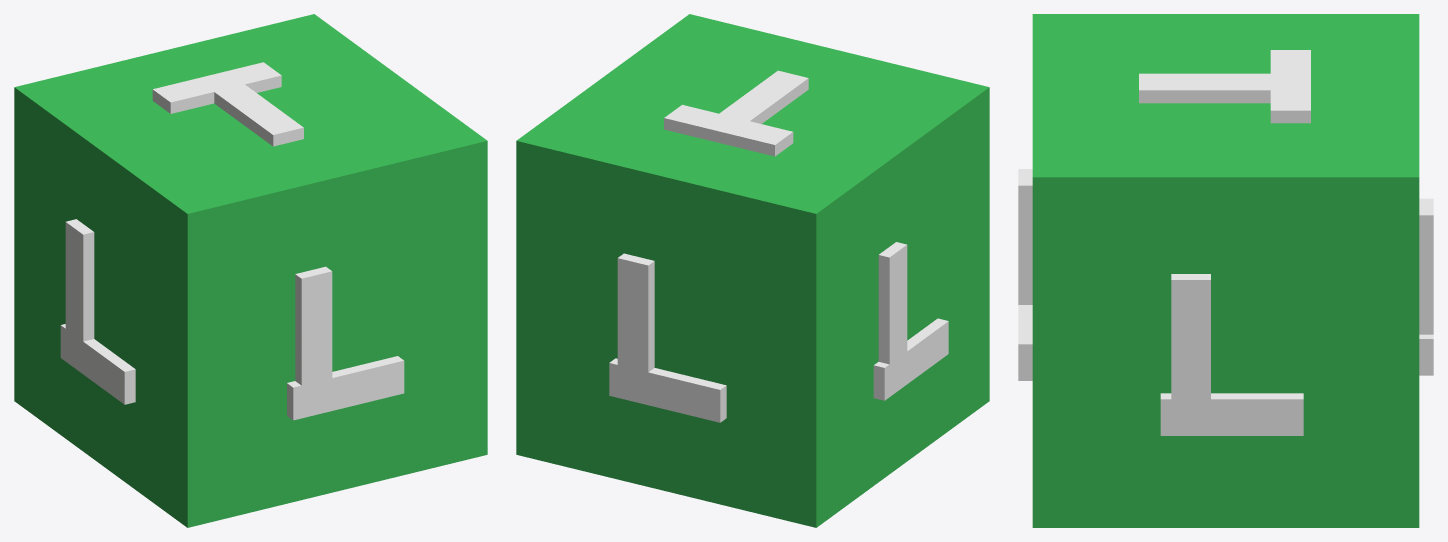
File: TARGET_5.glb
3 renders of one model, left to right at view 1: azimuth 30°, elevation 25°; view 2: azimuth 150°, elevation 25°; view 3: azimuth 270°, elevation 25°, orthographic. The views are drawn at different scales.
Visible parts, largest first — view 1: TARGET_HIGH_5; view 2: TARGET_HIGH_5; view 3: TARGET_HIGH_5.
Boxes of the visible parts, x1,y1,x2,y2 form: TARGET_HIGH_5: (14,14,487,527); TARGET_HIGH_5: (516,14,989,527); TARGET_HIGH_5: (1018,14,1433,527).
Bounding box in the file's own units: 2.15 × 2.15 × 2.15.
